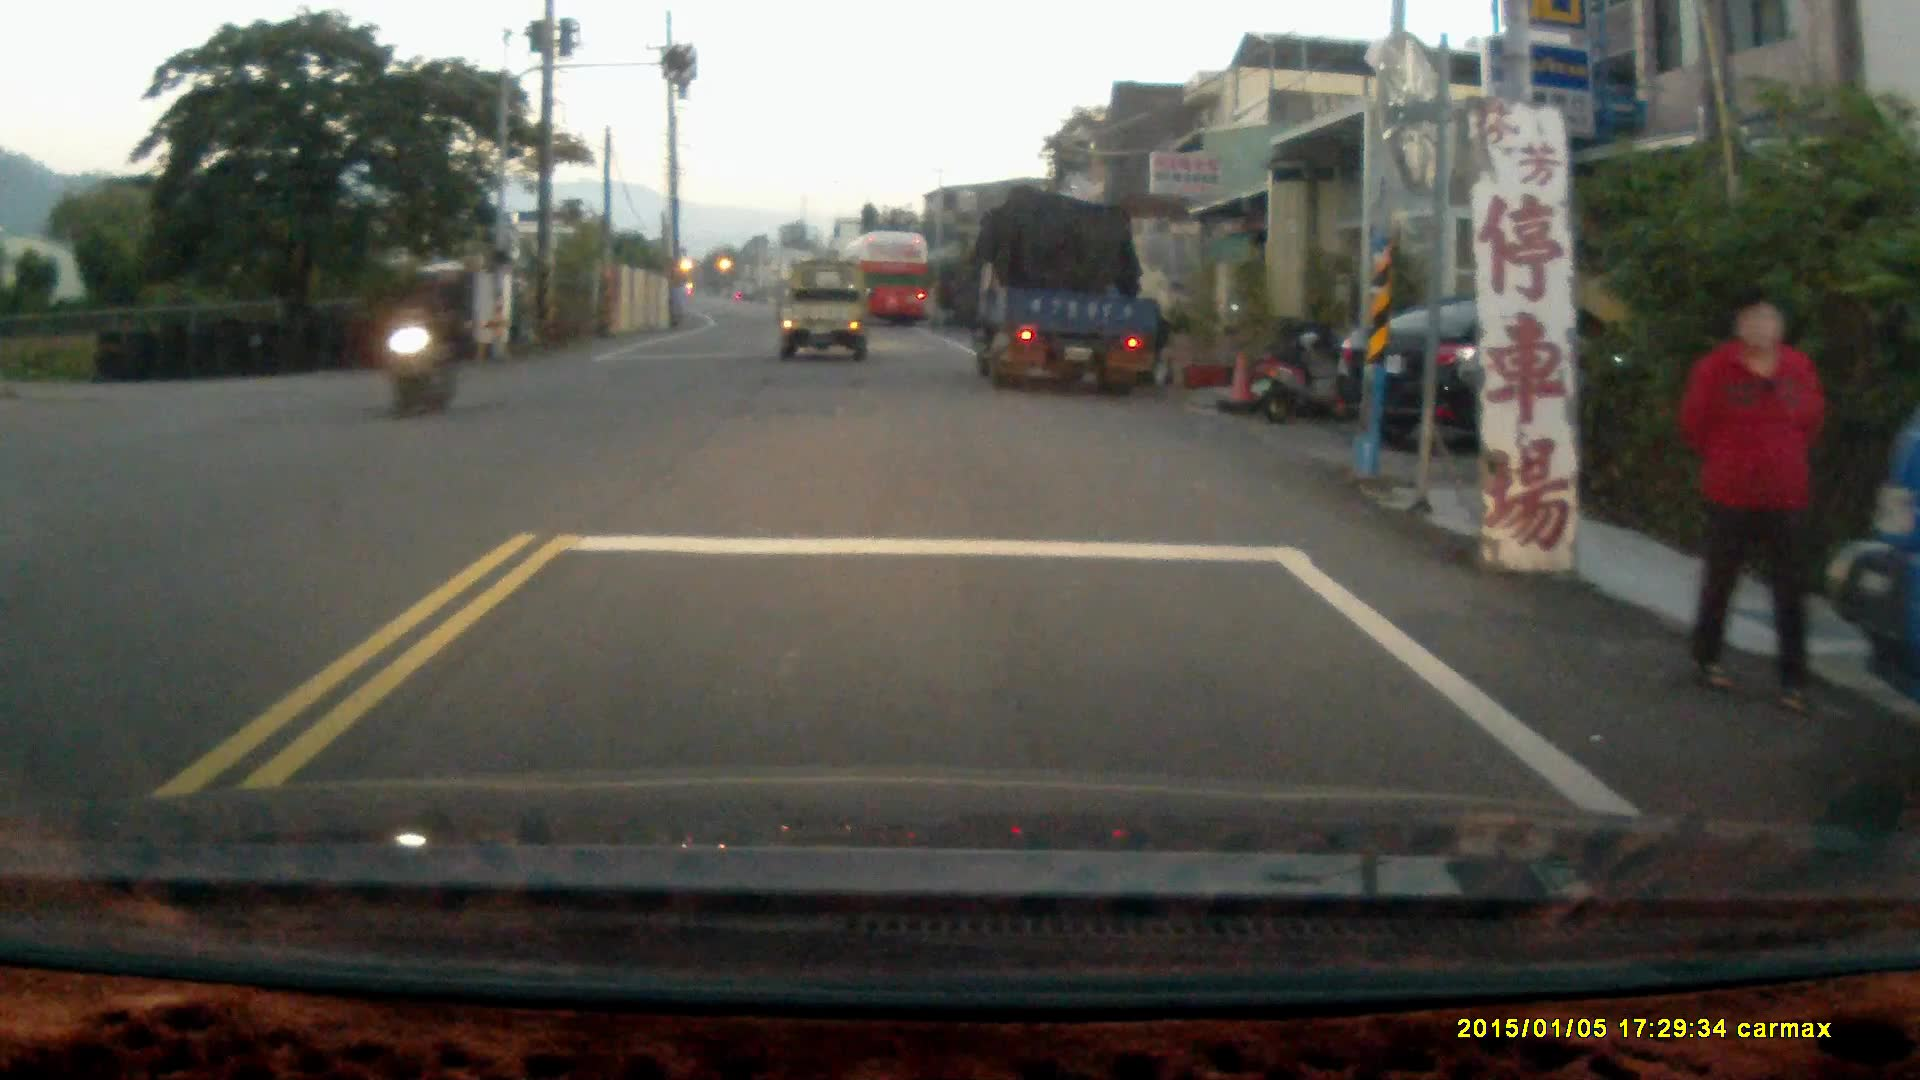pedestrian: (1669, 283, 1830, 721)
rider: (377, 258, 468, 419)
vehicle: (1326, 290, 1690, 459), (973, 191, 1166, 389), (777, 261, 872, 368), (838, 230, 934, 332)
